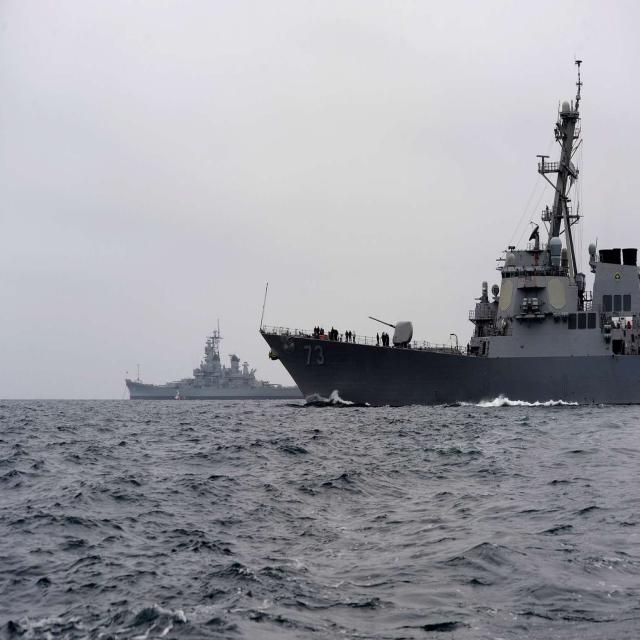navalvessels: (240, 58, 640, 418), (115, 263, 282, 456)
